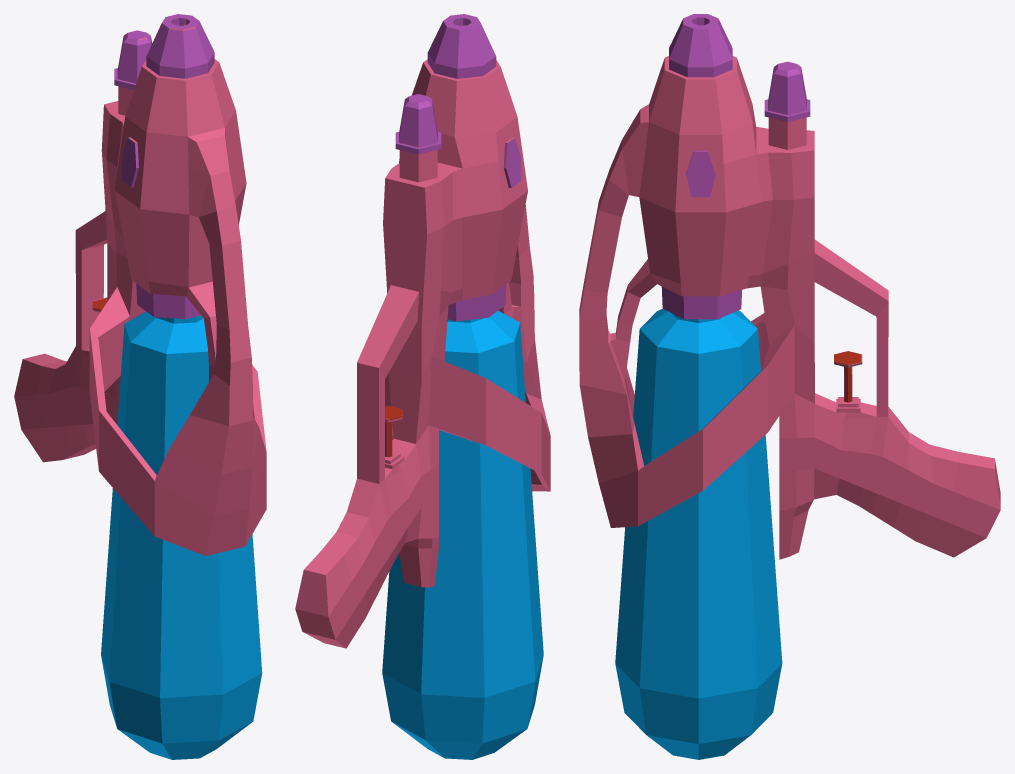
File: watergun.fbx
The picture shows the model from 3 angles, left to right: view 1: azimuth 30°, elevation 25°; view 2: azimuth 150°, elevation 25°; view 3: azimuth 270°, elevation 25°; orthographic projection.
Parts seen in each view (by area): view 1: Water_gun; view 2: Water_gun; view 3: Water_gun.
Part boxes in pixels (bbox=[...]): Water_gun: bbox=[14, 14, 266, 759]; Water_gun: bbox=[295, 14, 550, 759]; Water_gun: bbox=[579, 14, 1000, 759].
Bounding box in the file's own units: 0.4346 × 0.8225 × 0.1891.
